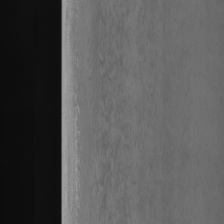silk_spot: (89, 3, 166, 219)
